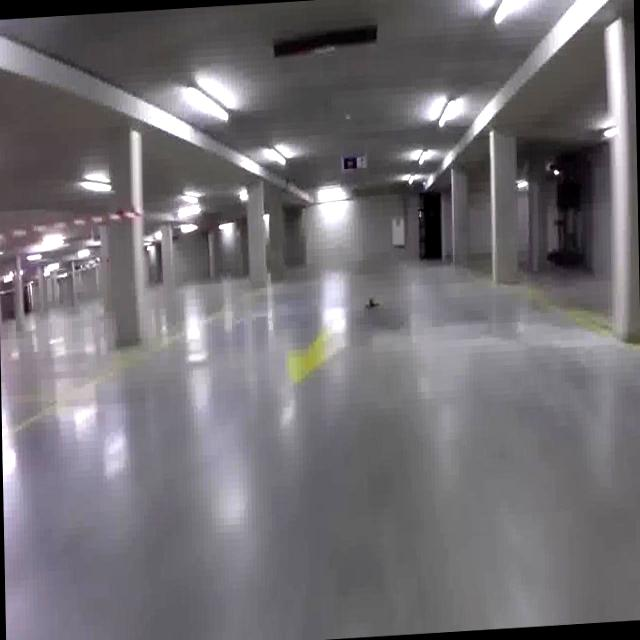drone: (363, 290, 382, 316)
